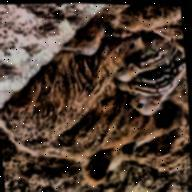boar: (0, 0, 191, 183), (122, 80, 189, 118)
